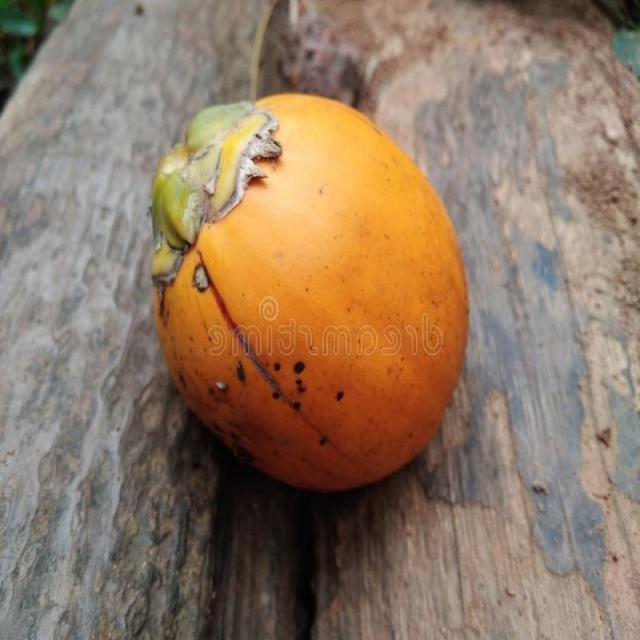good: (150, 94, 470, 497)
